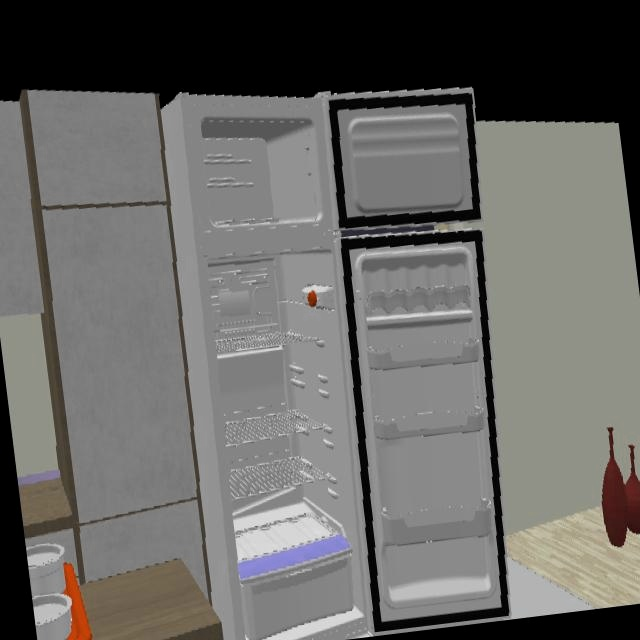fridge: (126, 88, 510, 640)
